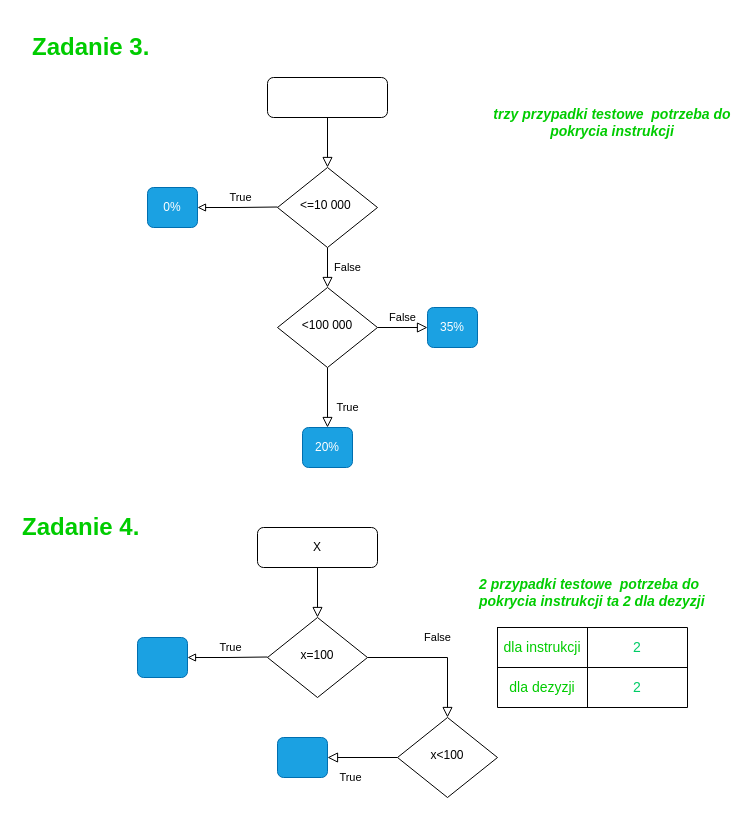
The diagram is 754 pixels wide and 815 high, and some of its shapes have lost their labels. The shapes that lost their labels are listed below. From the top down, each one's centre as x and y in pixels, then its label:
At pixel 327 97: "Income".
At pixel 162 657: "count".
At pixel 302 757: "x=r+1".
